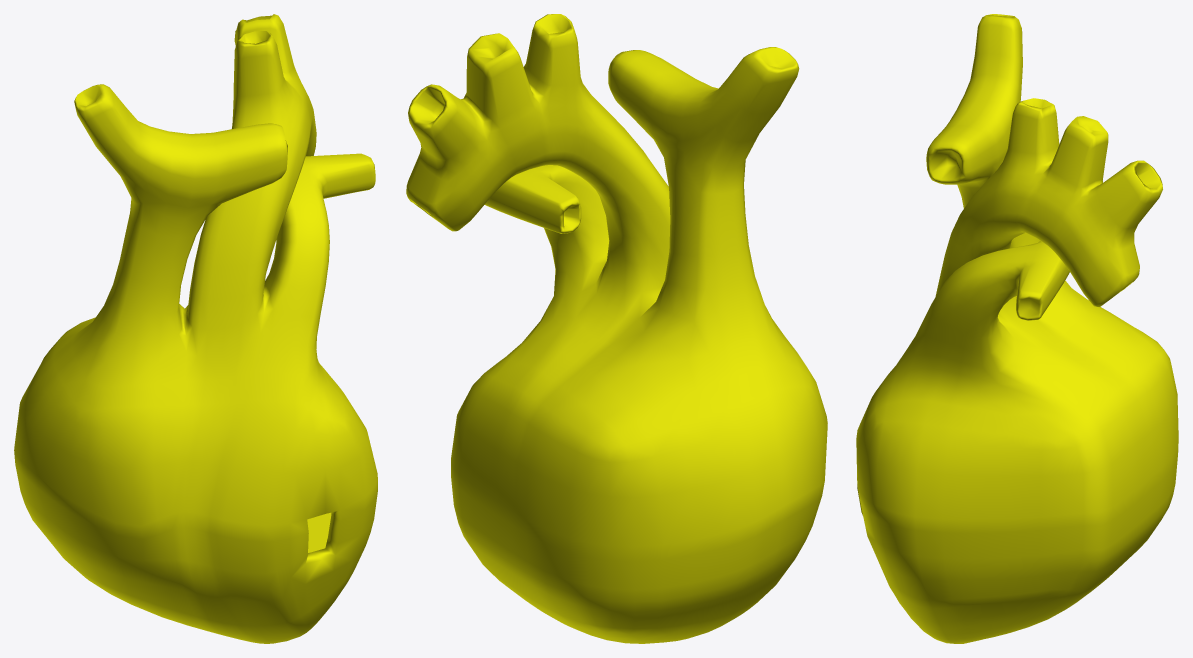
File: Corazon 1.0.fbx
3 views of the same model, side by side, from view 1: azimuth 30°, elevation 25°; view 2: azimuth 150°, elevation 25°; view 3: azimuth 270°, elevation 25° (orthographic). The views are drawn at different scales.
Parts seen in each view (by area): view 1: Corazon; view 2: Corazon; view 3: Corazon.
Part boxes in pixels (x1=…): Corazon: x1=14, y1=14, x2=377, y2=643; Corazon: x1=406, y1=14, x2=827, y2=643; Corazon: x1=856, y1=14, x2=1178, y2=643.
Bounding box in the file's own units: 2812 × 4538 × 2388.
